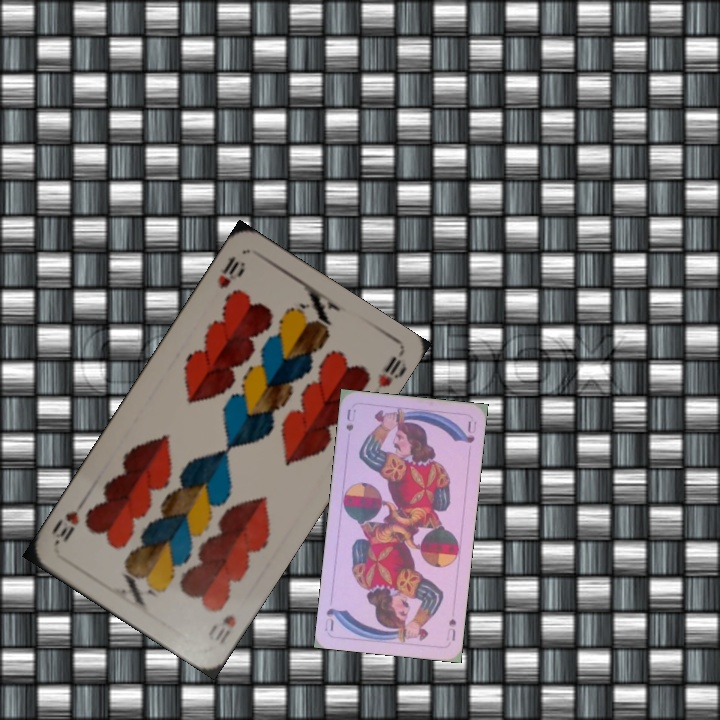H10: (213, 252, 248, 292), (203, 610, 239, 643)
SU: (342, 405, 359, 434), (442, 615, 459, 643)
